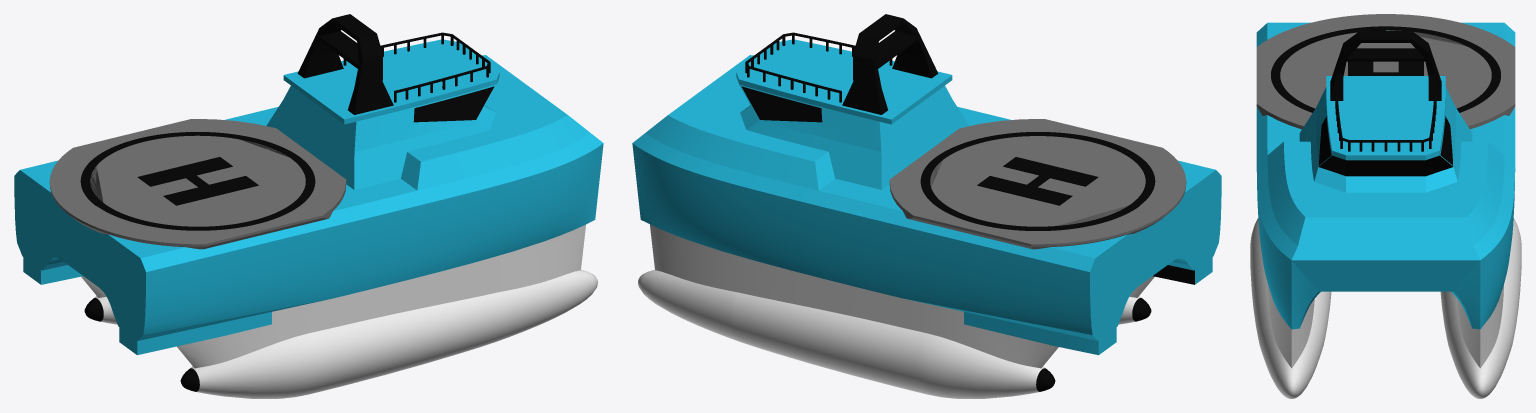
3 renders of one model, left to right at view 1: azimuth 30°, elevation 25°; view 2: azimuth 150°, elevation 25°; view 3: azimuth 270°, elevation 25°, orthographic.
Visible parts, largest first — view 1: Object_1; view 2: Object_1; view 3: Object_1.
Boxes of the visible parts, <box> form: Object_1: <box>14,14,603,398</box>; Object_1: <box>632,14,1221,398</box>; Object_1: <box>1250,14,1521,398</box>.
Size of the model in its own units: 45.35 by 27.21 by 22.35.
